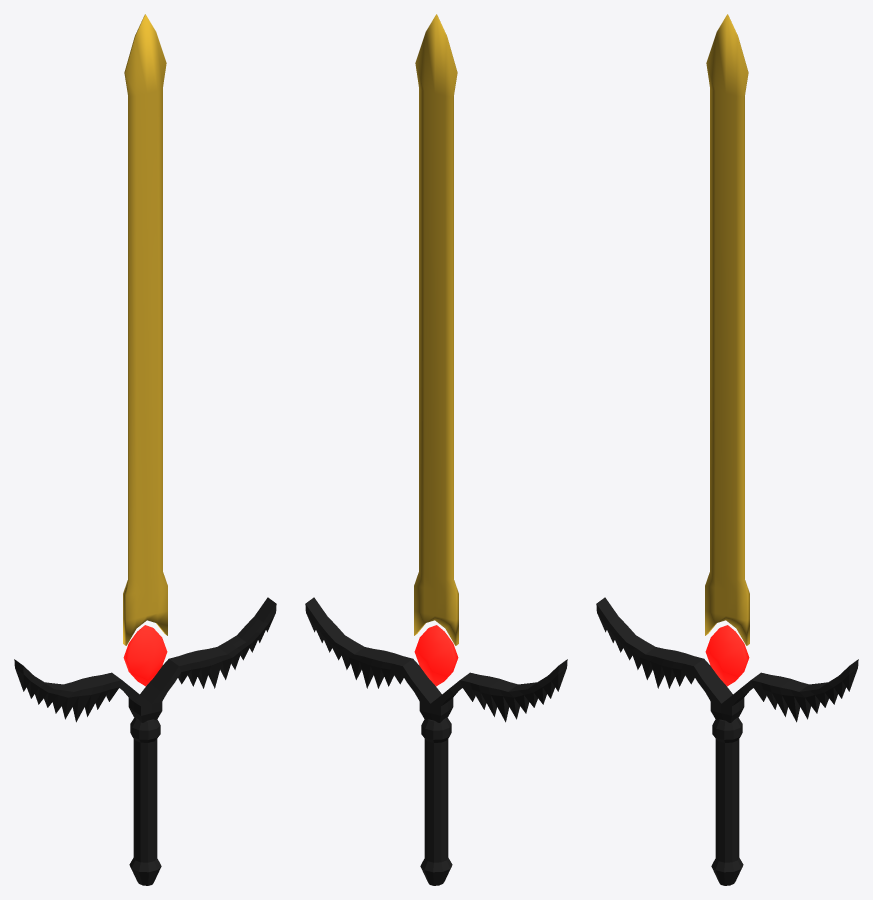
File: sword (1).fbx
3 views of the same model, side by side, from view 1: azimuth 30°, elevation 25°; view 2: azimuth 150°, elevation 25°; view 3: azimuth 330°, elevation 25° (orthographic).
Visible parts, largest first — view 1: Cube.001, Cylinder.001, Cylinder, Cube; view 2: Cube.001, Cylinder.001, Cylinder, Cube; view 3: Cube.001, Cylinder.001, Cylinder, Cube.
Part boxes in pixels (x1=…): Cube.001: x1=123, y1=14, x2=167, y2=645; Cylinder.001: x1=14, y1=597, x2=276, y2=722; Cylinder: x1=129, y1=717, x2=161, y2=885; Cube: x1=123, y1=625, x2=167, y2=686; Cube.001: x1=414, y1=14, x2=458, y2=645; Cylinder.001: x1=305, y1=597, x2=567, y2=722; Cylinder: x1=420, y1=717, x2=452, y2=885; Cube: x1=414, y1=625, x2=458, y2=686; Cube.001: x1=705, y1=14, x2=749, y2=645; Cylinder.001: x1=596, y1=597, x2=858, y2=722; Cylinder: x1=711, y1=717, x2=743, y2=885; Cube: x1=705, y1=625, x2=749, y2=686.
Bounding box in the file's own units: 41.36 × 135 × 4.37.
